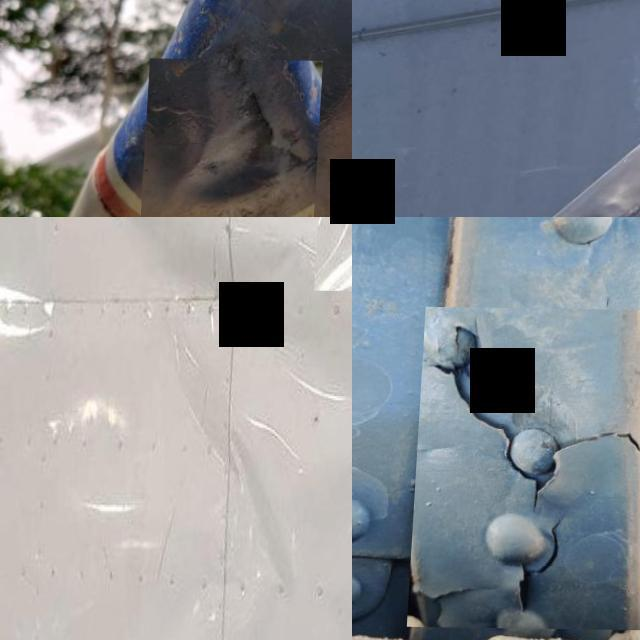Crack: (413, 306, 640, 628), (559, 564, 640, 640)
Dent: (116, 217, 352, 404), (145, 57, 326, 217), (188, 392, 304, 599), (316, 217, 352, 289)
